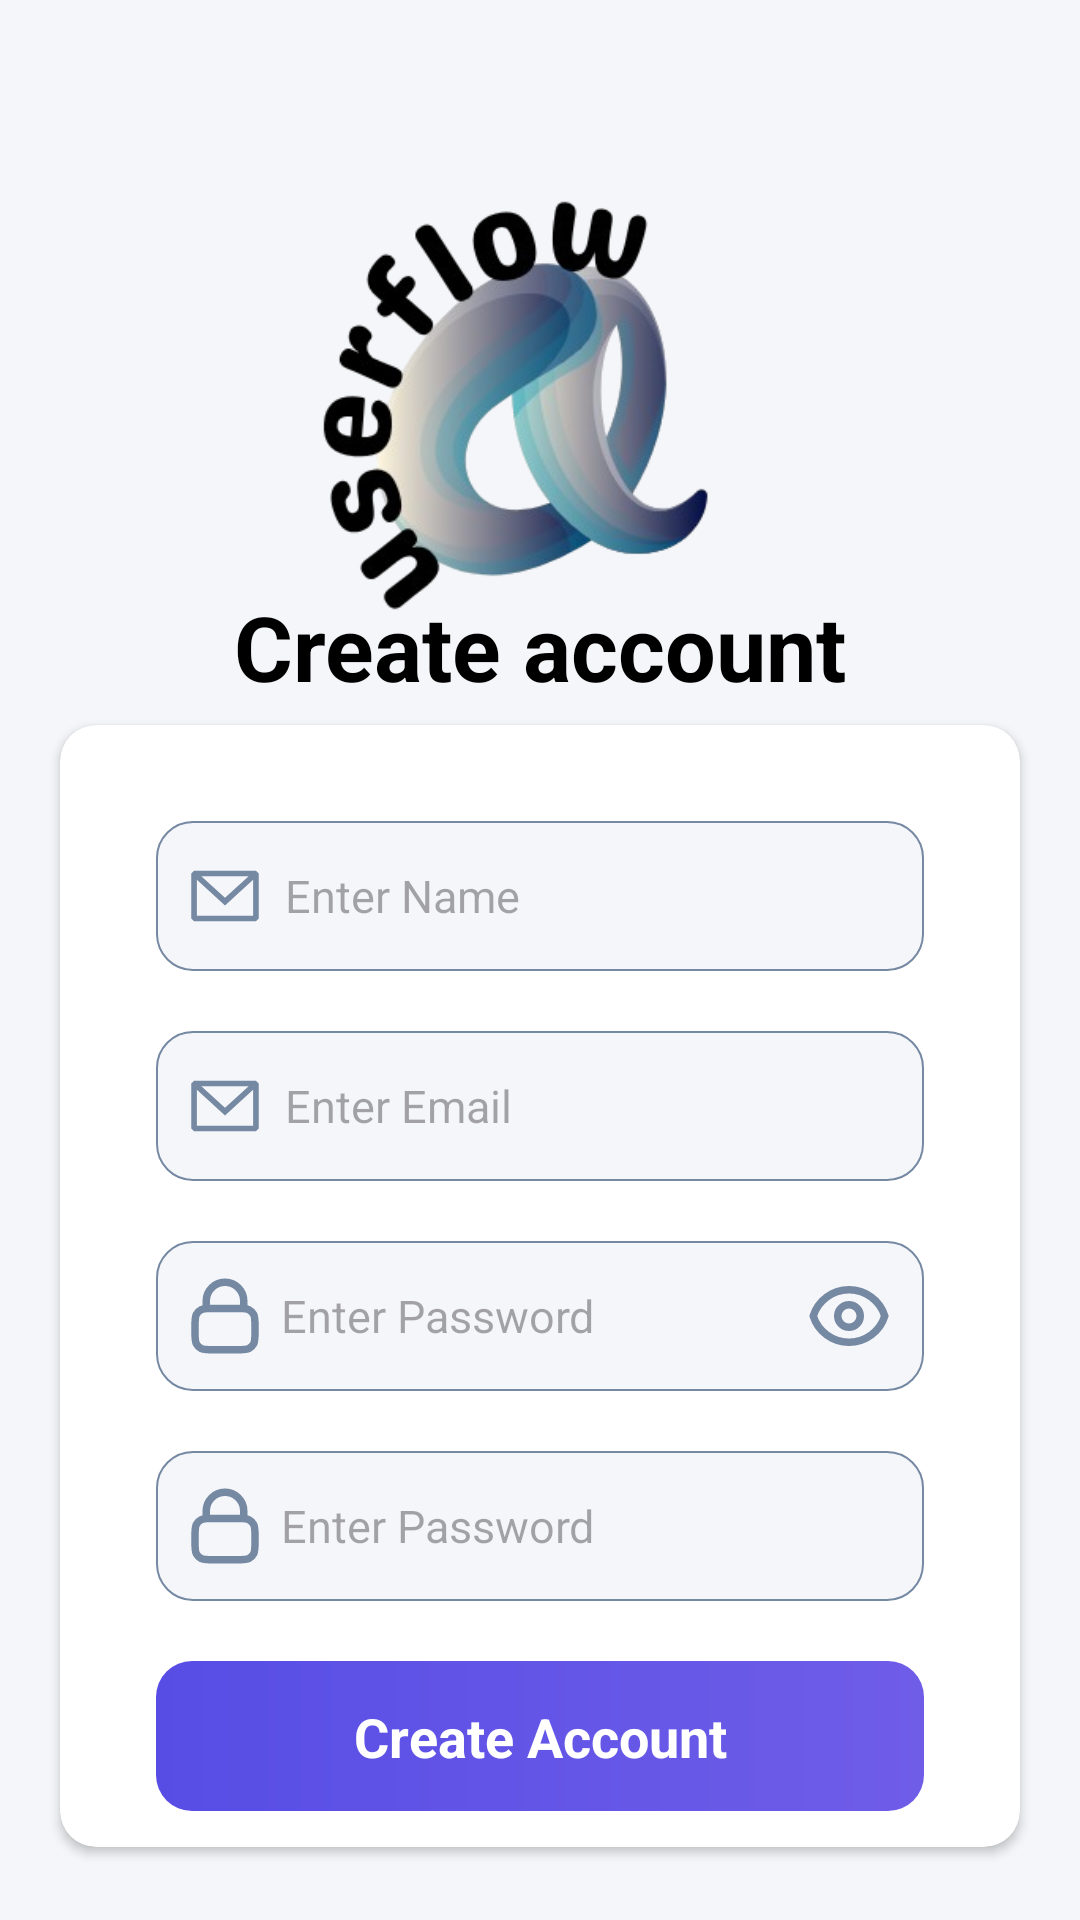

Named icons in this screenshot (1080×1920) and their bounding boxes, [x1, y1, x2, y2]:
eye: [809, 1286, 889, 1346]
